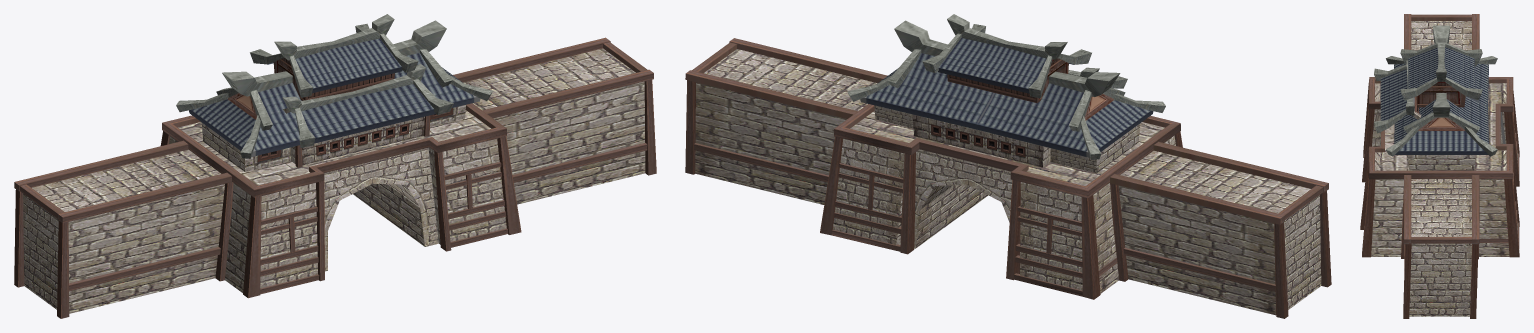
File: FH_Env_Guanqia_04.FBX
3 views of the same model, side by side, from view 1: azimuth 30°, elevation 25°; view 2: azimuth 150°, elevation 25°; view 3: azimuth 270°, elevation 25° (orthographic). The views are drawn at different scales.
Parts seen in each view (by area): view 1: Object02, Object08, Object07; view 2: Object02, Object08, Object07; view 3: Object02, Object07, Object08.
Part boxes in pixels (<box>): Object02: <box>160,14,521,298</box>; Object08: <box>14,140,231,318</box>; Object07: <box>453,37,656,204</box>; Object02: <box>820,14,1182,299</box>; Object08: <box>1109,141,1331,318</box>; Object07: <box>685,38,887,204</box>; Object02: <box>1360,25,1519,259</box>; Object07: <box>1403,175,1479,318</box>; Object08: <box>1404,14,1479,50</box>.
Size of the model in its own units: 43.06 by 13.66 by 12.78.
